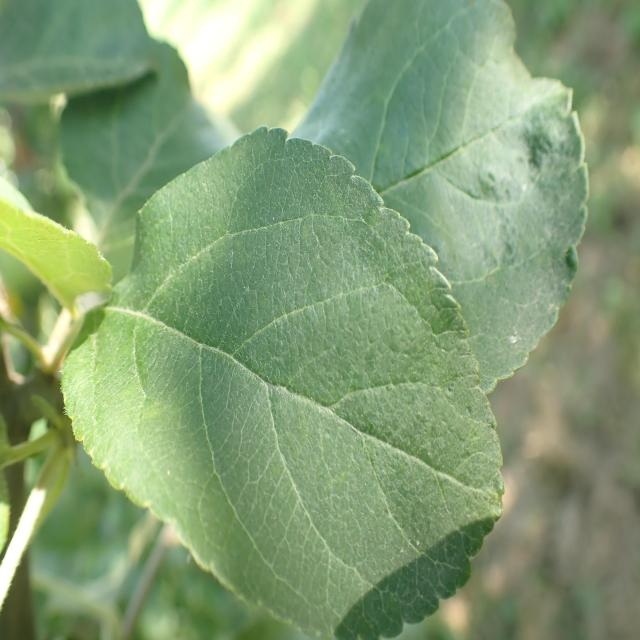healthy: (59, 125, 505, 640), (292, 0, 589, 393), (0, 0, 160, 104)
